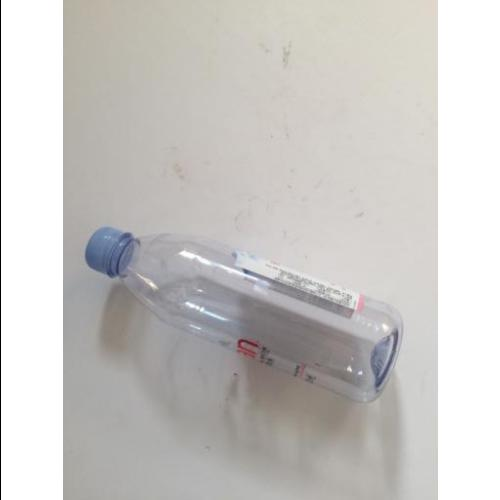plastic: (86, 227, 405, 404)
